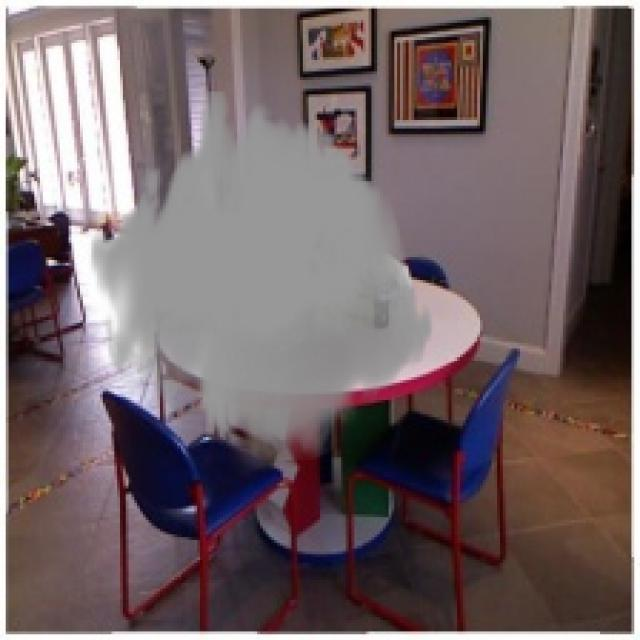Smoke: (88, 91, 434, 460)
